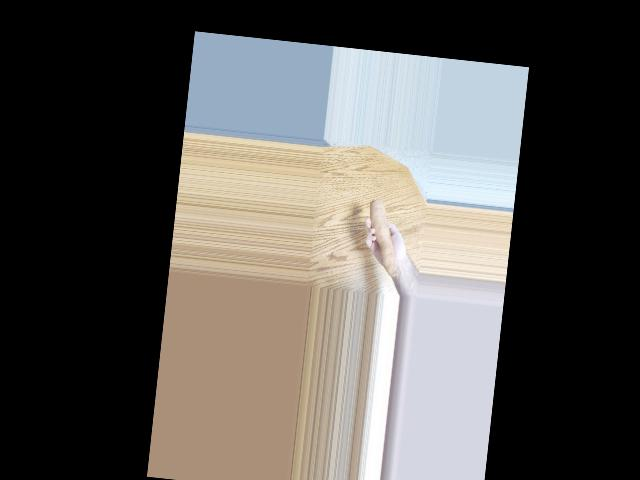sweet_potato: (361, 197, 405, 275)
